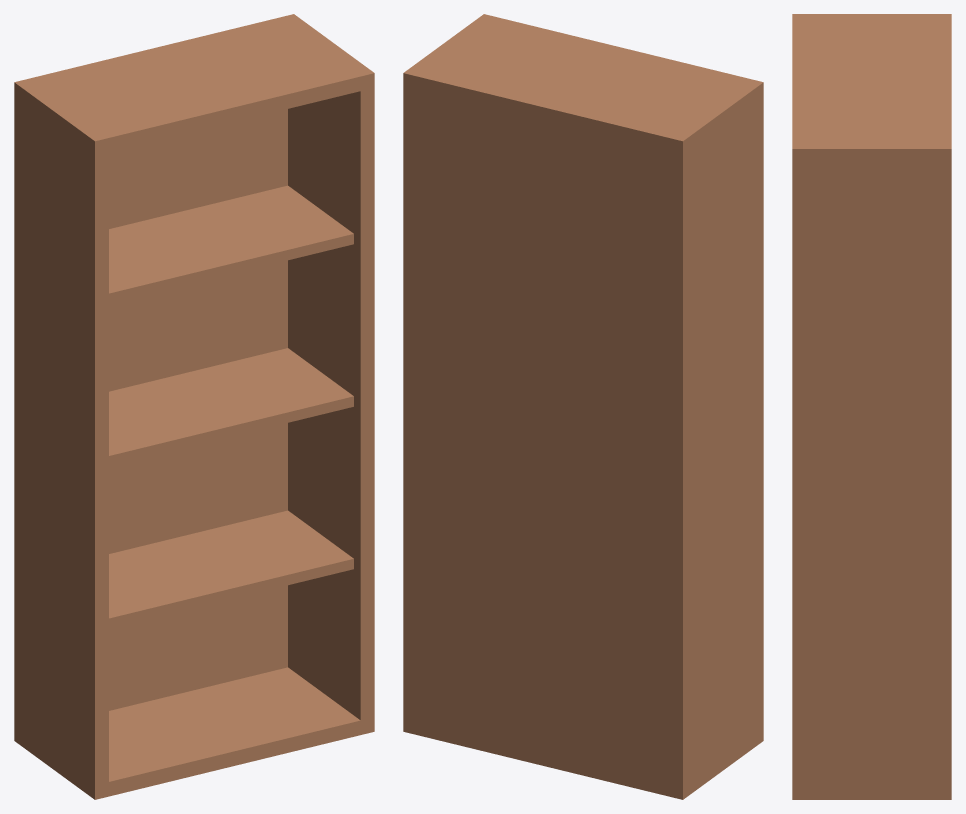
The model's file is Mueble 2.fbx.
3 views of the same model, side by side, from view 1: azimuth 30°, elevation 25°; view 2: azimuth 150°, elevation 25°; view 3: azimuth 270°, elevation 25° (orthographic).
Parts seen in each view (by area): view 1: Mueble_2; view 2: Mueble_2; view 3: Mueble_2.
Part boxes in pixels (box(x1,y1,x2,y2)): Mueble_2: box(14, 14, 374, 799); Mueble_2: box(403, 14, 763, 799); Mueble_2: box(792, 14, 951, 799).
Bounding box in the file's own units: 0.8 × 1.8 × 0.4.
